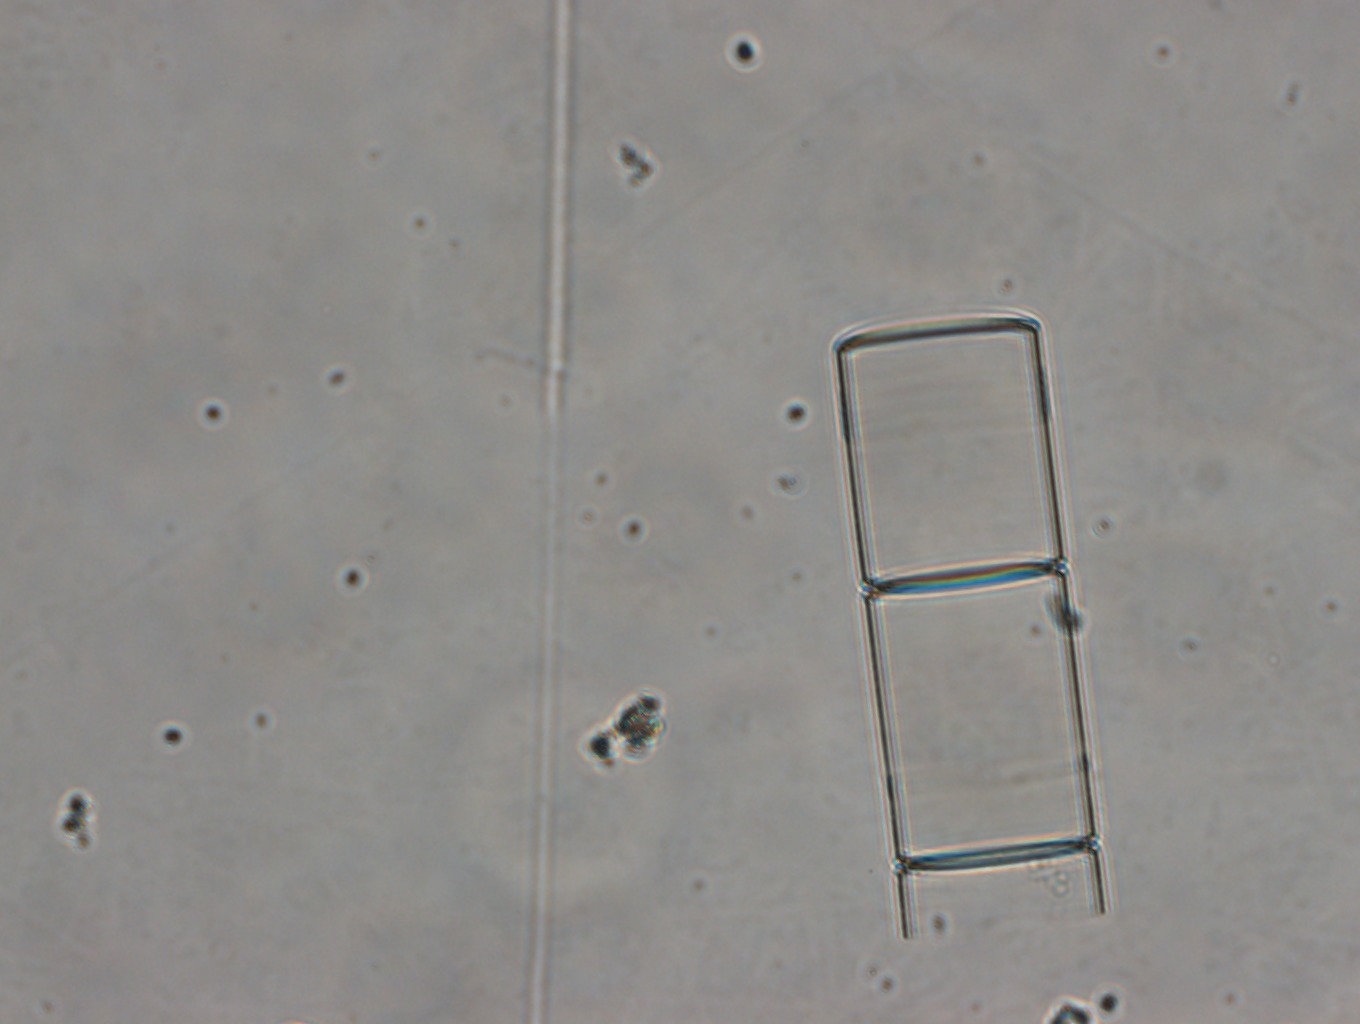guinardia flaccida: (832, 312, 1108, 942)
